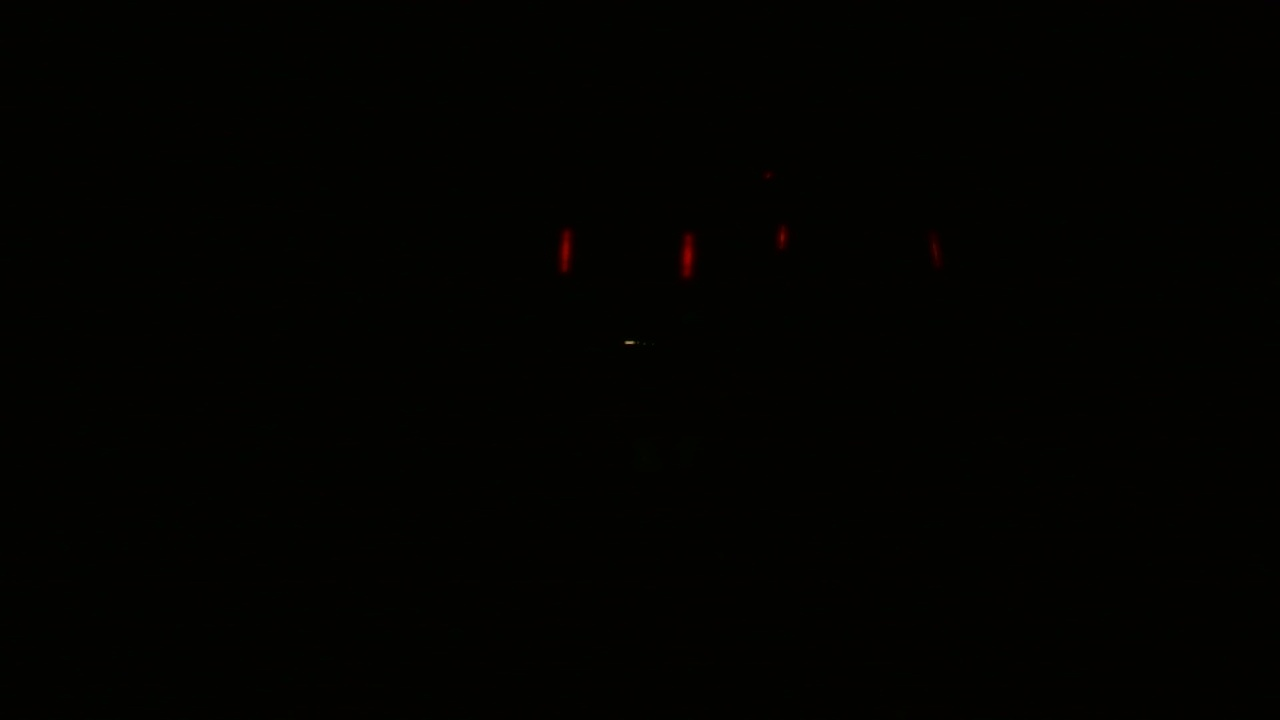pair1: (555, 221, 697, 283)
